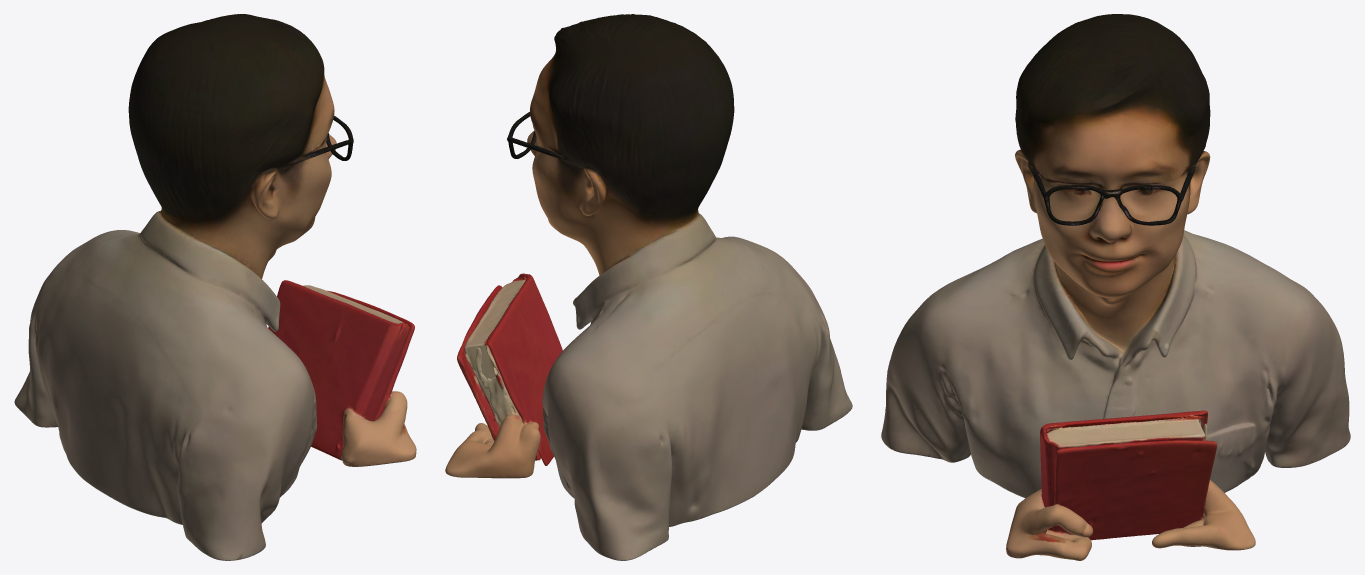
File: maoxuan-scholar.glb
The picture shows the model from 3 angles, left to right: view 1: azimuth 30°, elevation 25°; view 2: azimuth 150°, elevation 25°; view 3: azimuth 270°, elevation 25°; orthographic projection. The views are drawn at different scales.
Parts seen in each view (by area): view 1: tripo_node_33ddcd24-31e8-45d5-86e9-27f8cc9dab5a; view 2: tripo_node_33ddcd24-31e8-45d5-86e9-27f8cc9dab5a; view 3: tripo_node_33ddcd24-31e8-45d5-86e9-27f8cc9dab5a.
Part boxes in pixels (<box>): tripo_node_33ddcd24-31e8-45d5-86e9-27f8cc9dab5a: <box>14,14,416,560</box>; tripo_node_33ddcd24-31e8-45d5-86e9-27f8cc9dab5a: <box>445,14,852,560</box>; tripo_node_33ddcd24-31e8-45d5-86e9-27f8cc9dab5a: <box>881,14,1350,560</box>.
Size of the model in its own units: 0.7123 by 1 by 0.9299.
1 material, 1 textured.
